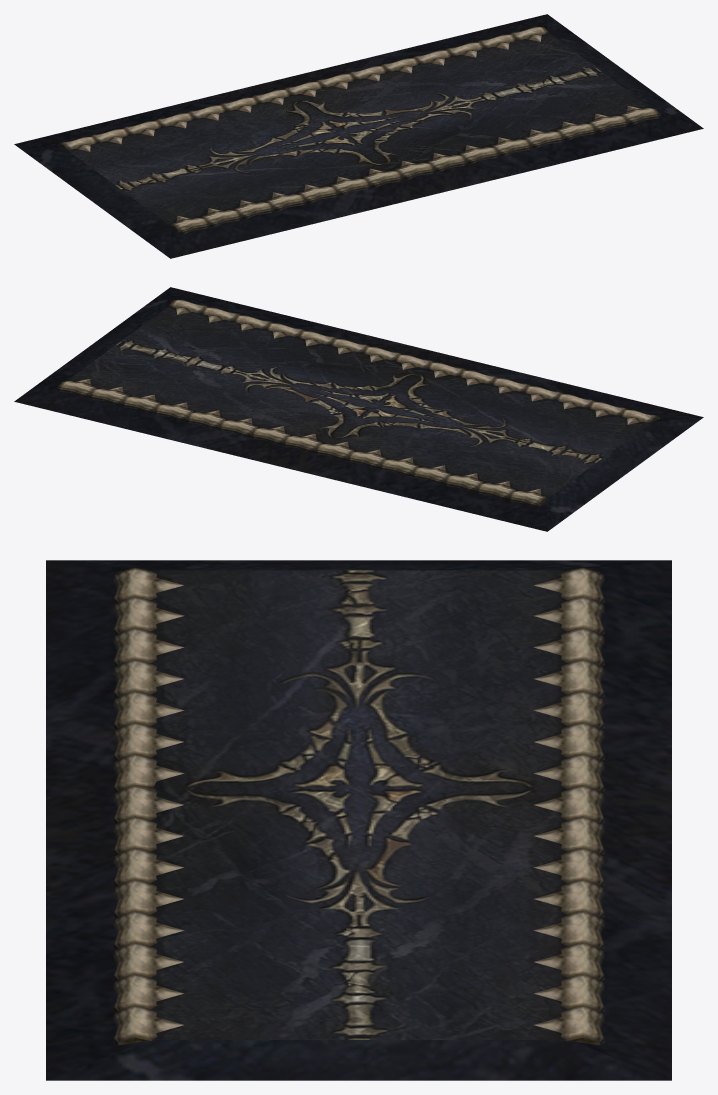
The model's file is RD_A_FloorPath01a.FBX.
3 views of the same model, one above another, from view 1: azimuth 30°, elevation 25°; view 2: azimuth 150°, elevation 25°; view 3: azimuth 270°, elevation 25° (orthographic). The views are drawn at different scales.
Visible parts, largest first — view 1: RD_A_FloorPath01a; view 2: RD_A_FloorPath01a; view 3: RD_A_FloorPath01a.
Part boxes in pixels (x1,y1,x2,y2): RD_A_FloorPath01a: (14, 14, 703, 258); RD_A_FloorPath01a: (14, 287, 703, 531); RD_A_FloorPath01a: (46, 560, 671, 1080).
Bounding box in the file's own units: 1487 × 28.58 × 756.
